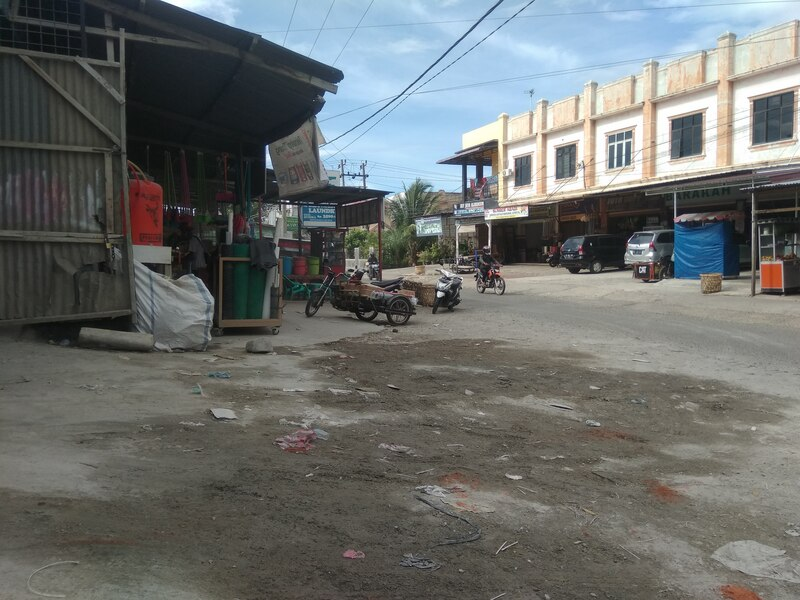becak barang: (303, 260, 422, 331)
